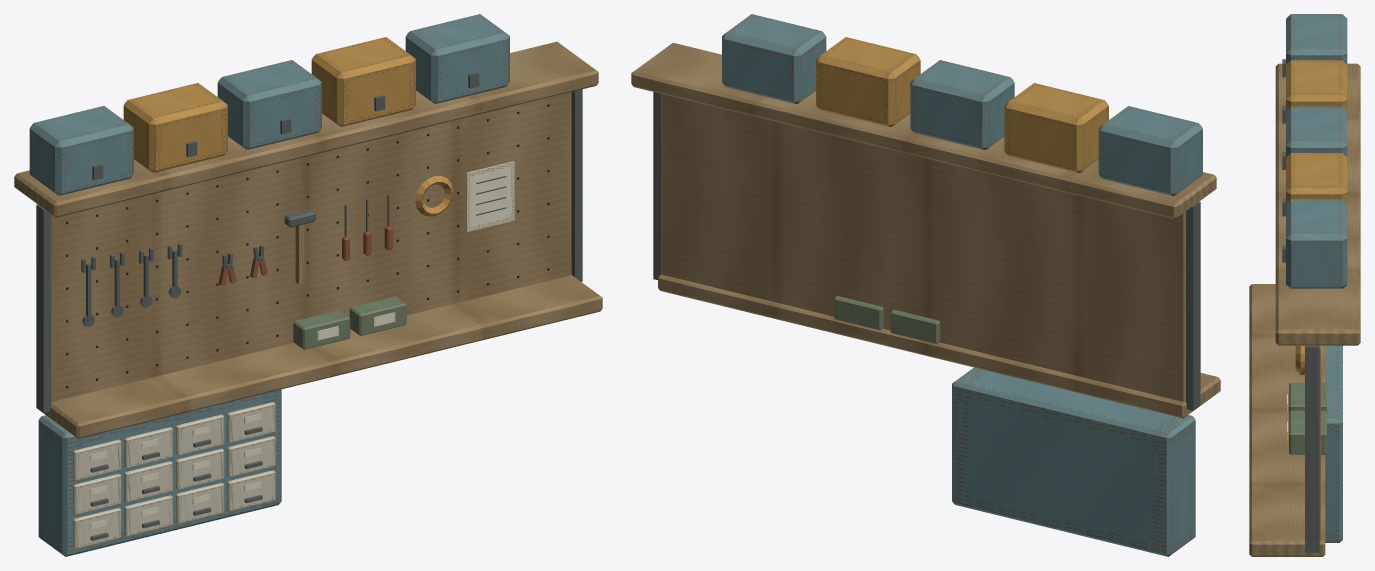
The model's file is ToolWall.fbx.
3 renders of one model, left to right at view 1: azimuth 30°, elevation 25°; view 2: azimuth 150°, elevation 25°; view 3: azimuth 270°, elevation 25°, orthographic.
Parts seen in each view (by area): view 1: ToolWall; view 2: ToolWall; view 3: ToolWall.
Boxes of the visible parts, x1,y1,x2,y2 form: ToolWall: (14,14,602,556); ToolWall: (631,14,1220,556); ToolWall: (1249,14,1360,556).
Bounding box in the file's own units: 435 × 318 × 76.
